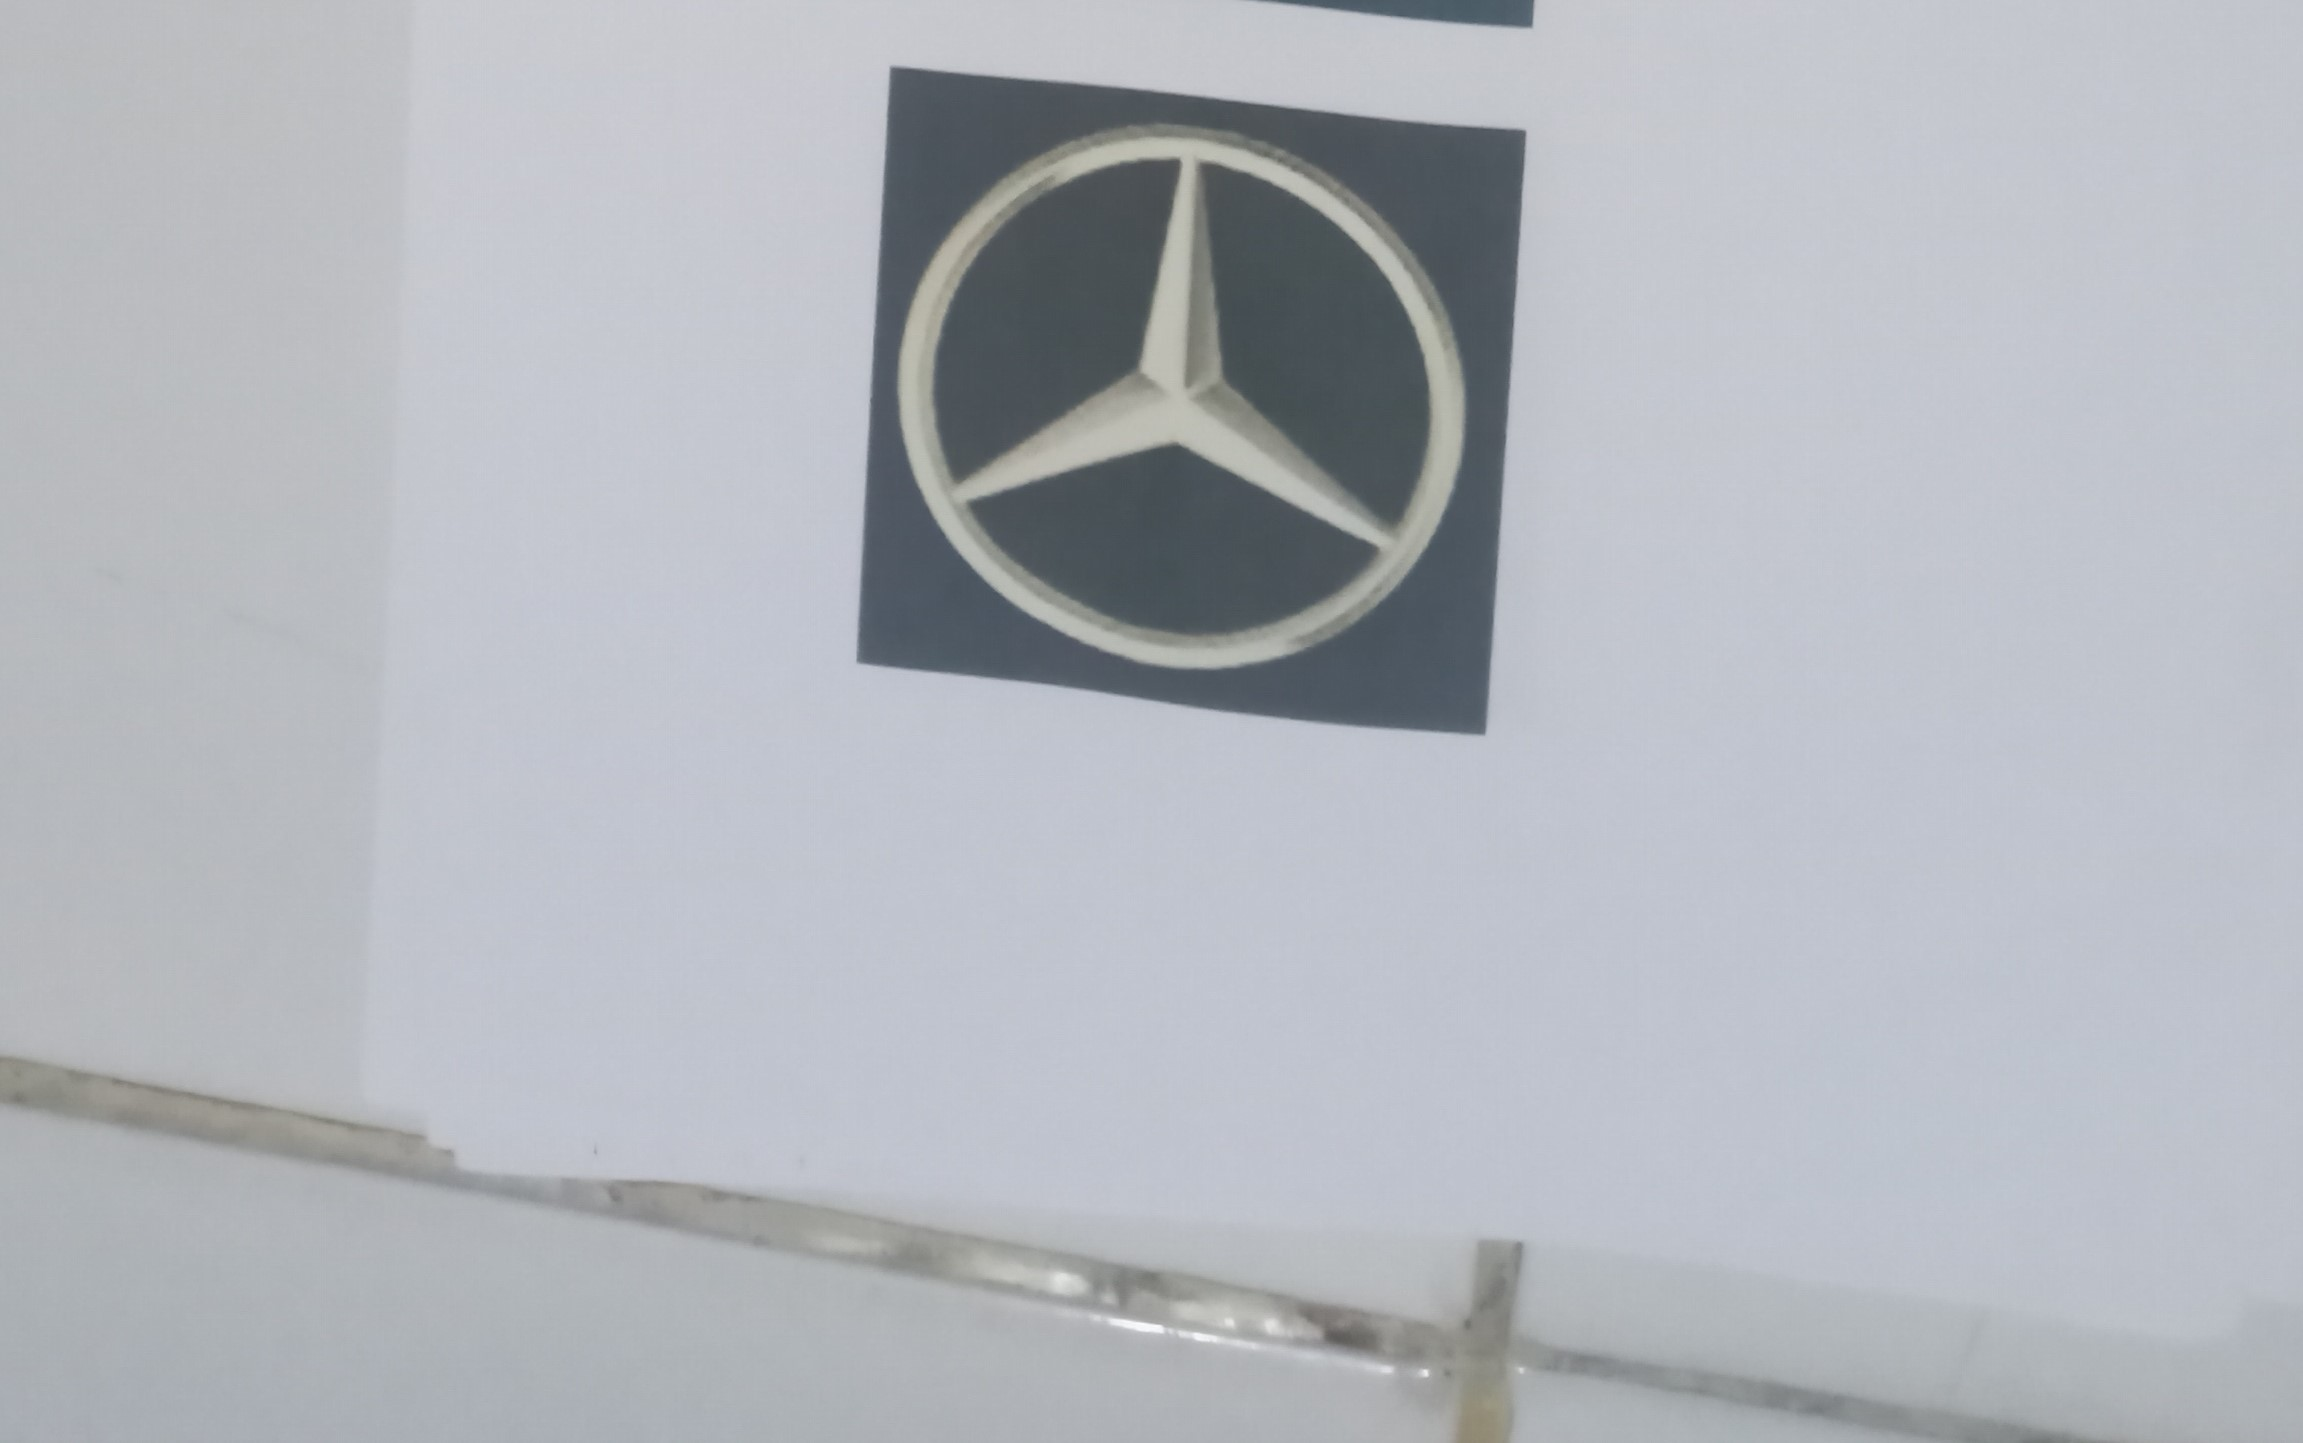Mercedes: (886, 106, 1494, 697)
